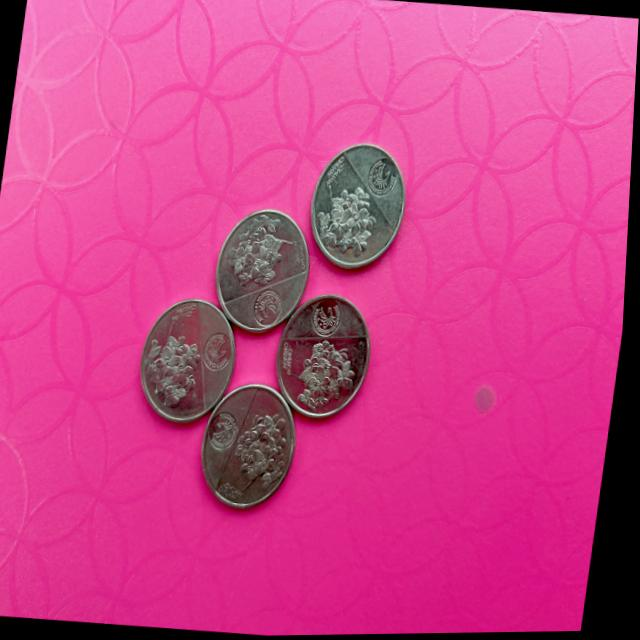1_New_Back: (132, 318, 221, 417), (219, 197, 306, 292), (231, 403, 307, 505), (297, 333, 374, 427), (311, 180, 390, 269)
